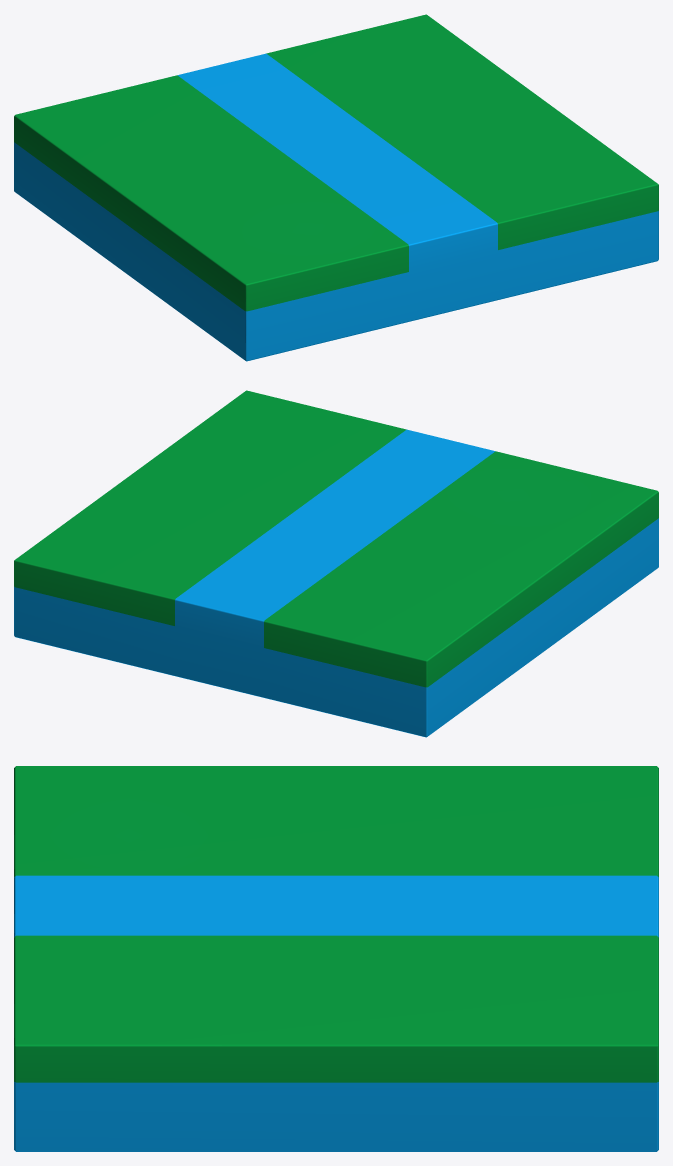
Rendered from Farm_7_Base_1.glb.
3 views of the same model, one above another, from view 1: azimuth 30°, elevation 25°; view 2: azimuth 150°, elevation 25°; view 3: azimuth 270°, elevation 25° (orthographic). The views are drawn at different scales.
Visible parts, largest first — view 1: Farm_7_Base_1; view 2: Farm_7_Base_1; view 3: Farm_7_Base_1.
Part boxes in pixels (left/top/right/bottom): Farm_7_Base_1: left=14, top=14, right=658, bottom=361; Farm_7_Base_1: left=14, top=390, right=658, bottom=737; Farm_7_Base_1: left=14, top=766, right=658, bottom=1151.
Size of the model in its own units: 14.23 by 2.55 by 13.86.
1 material, 1 textured.
